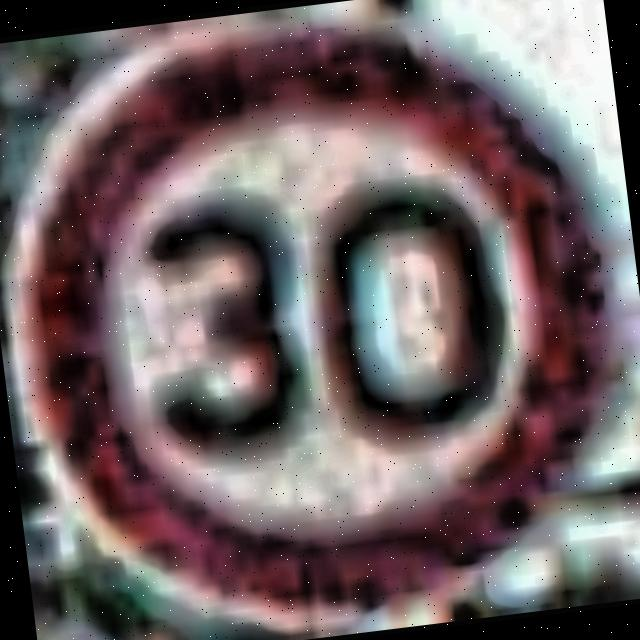speed_30: (4, 0, 640, 621)
